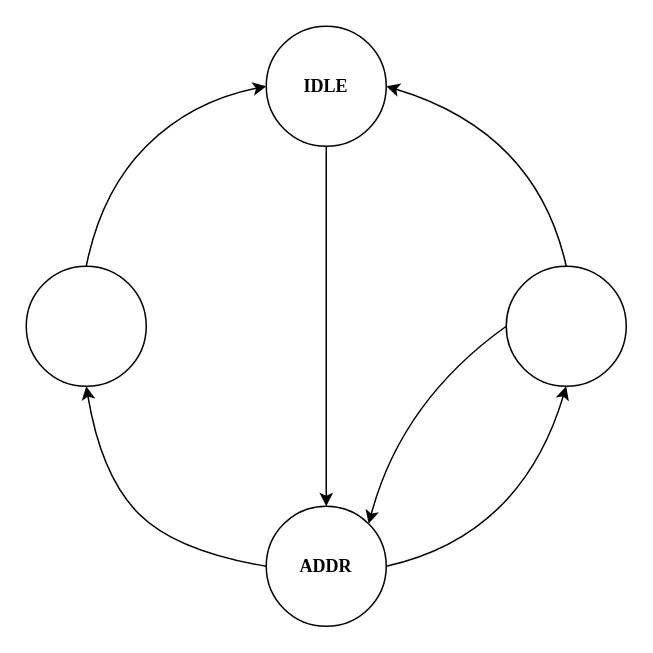
Some shapes in this 653 by 653 pixel diagram are drawn without their labels. The shapes that lost their labels are listed below. From the top down, each one's centre as x and y in pixels, then its label:
(x=85, y=325): SINGLE
(x=565, y=325): BURST
